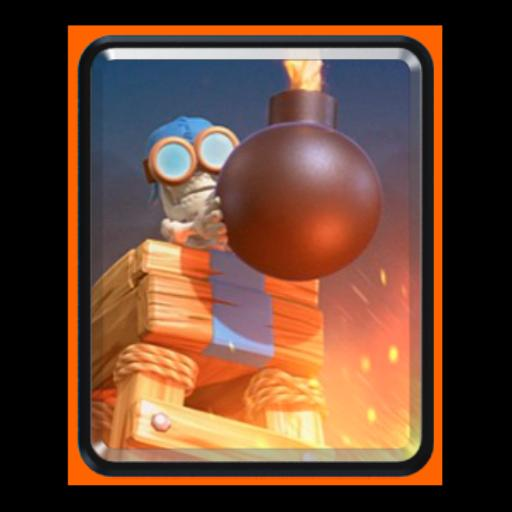bomb-tower: (84, 59, 420, 471)
